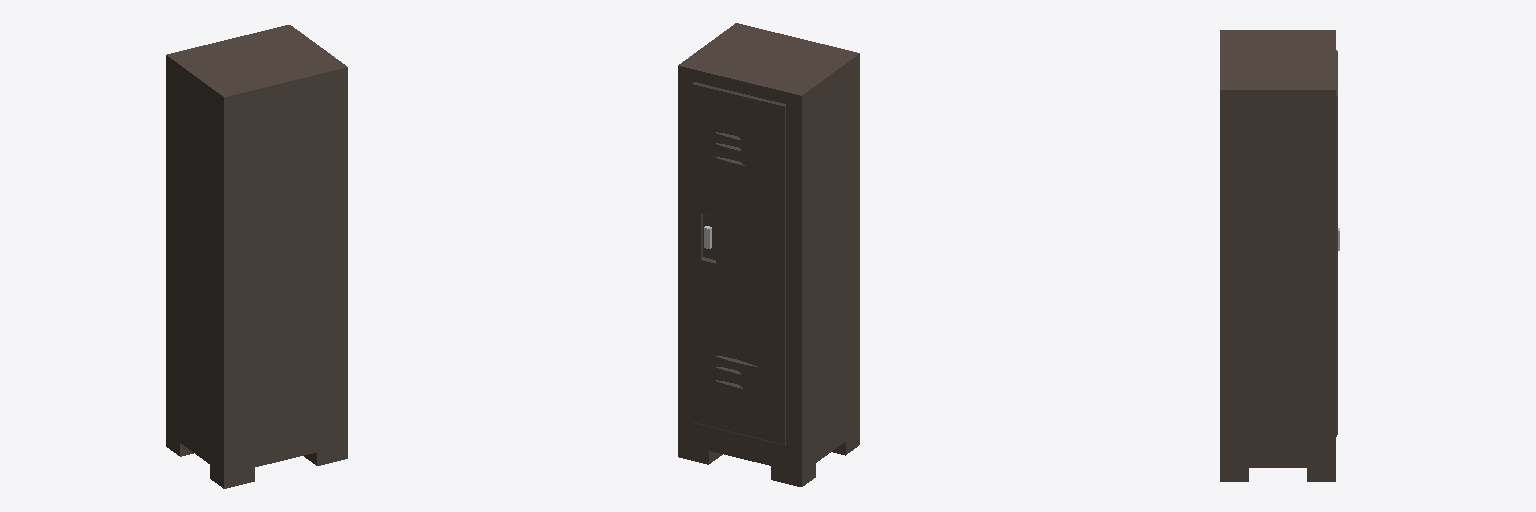
Rendered from lockergray.obj.
3 views of the same model, side by side, from view 1: azimuth 30°, elevation 25°; view 2: azimuth 150°, elevation 25°; view 3: azimuth 270°, elevation 25° (orthographic).
Visible parts, largest first — view 1: Cube_Cube.041; view 2: Cube_Cube.041; view 3: Cube_Cube.041.
Boxes of the visible parts, <box> form: Cube_Cube.041: <box>166,25,347,488</box>; Cube_Cube.041: <box>678,23,859,486</box>; Cube_Cube.041: <box>1220,30,1339,481</box>.
Size of the model in its own units: 1.65 by 4.96 by 1.39.